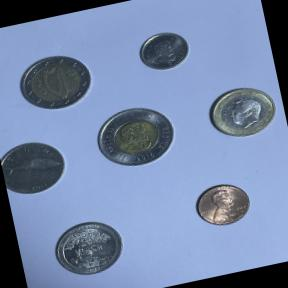1 Euro-B: (202, 78, 282, 146)
2 Euro-B: (10, 44, 101, 120)
Canada-10cent-B: (130, 23, 196, 78)
Canada-2Dollar-B: (86, 96, 184, 178)
Croatia-2Kune-B: (0, 132, 73, 201)
US-1cent-B: (188, 176, 256, 234)
US-25cent-B: (44, 211, 134, 285)
